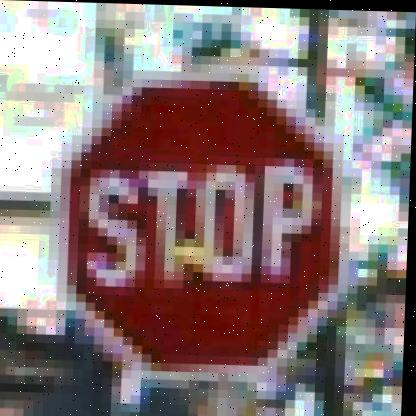Stop Sign: (47, 57, 359, 384)
